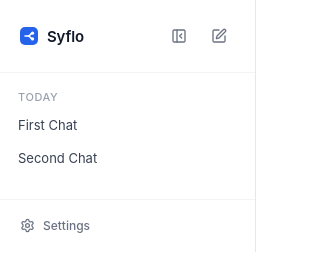
Sidebar › returns to flat view when back button is clicked
Click the text "Second Chat": (58, 158) [18,150,97,166]
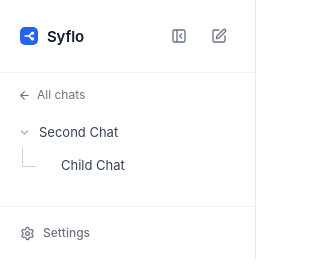
Click the button "All chats": (128, 95) [8,81,247,109]
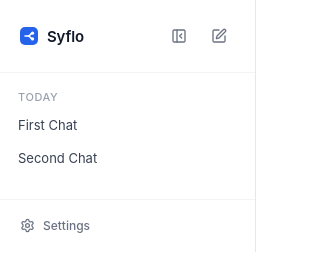
Expected: the text "First Chat" is shown, [18,116,77,132]
Expected: the text "Child Chat" is gone
